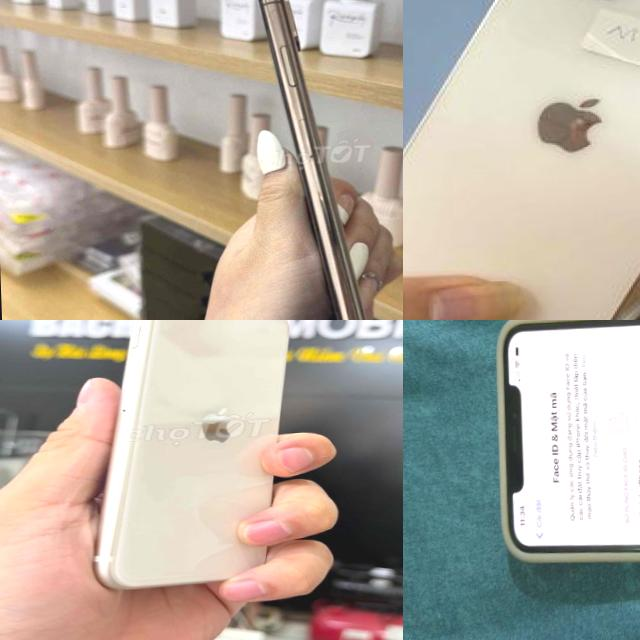gen_14: (403, 0, 640, 320)
gen_7_8: (73, 320, 310, 593)
gen_x_xs: (485, 320, 640, 577), (257, 0, 367, 320)
